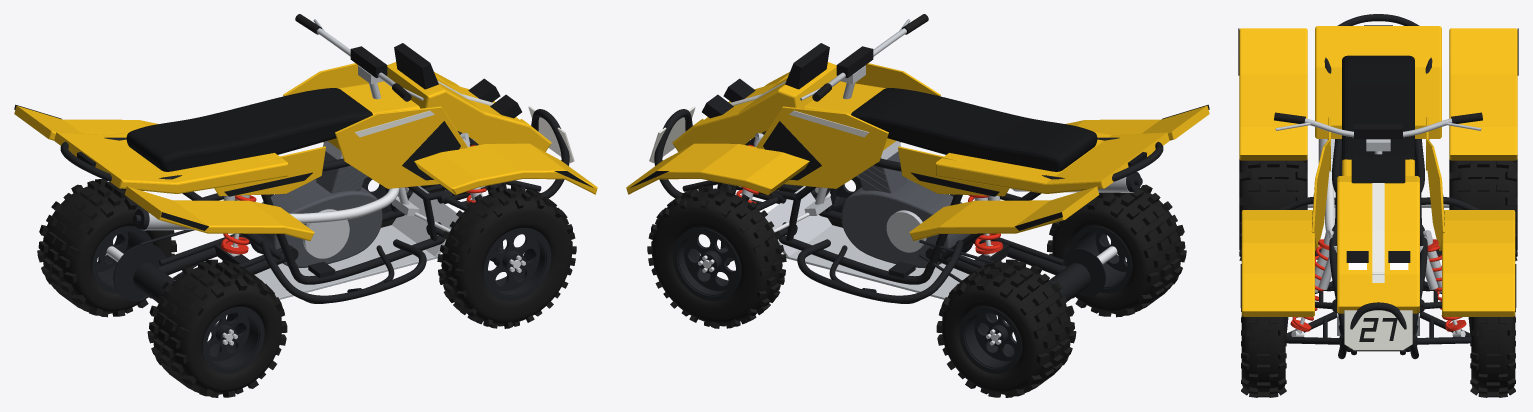
File: pro_450r_quad.glb
The picture shows the model from 3 angles, left to right: view 1: azimuth 30°, elevation 25°; view 2: azimuth 150°, elevation 25°; view 3: azimuth 270°, elevation 25°; orthographic projection. The views are drawn at different scales.
Parts seen in each view (by area): view 1: bodywork, wheel_RR_tyre, seat, wheel_FR_tyre, wheel_RL_tyre, frame, shroud_R_panel, engine_block, skid_plate, wheel_FR_rim, wheel_RR_rim, swingarm_body (+13 smaller); view 2: bodywork, wheel_RL_tyre, seat, wheel_FL_tyre, wheel_RR_tyre, frame, engine_block, shroud_L_panel, skid_plate, wheel_FL_rim, wheel_RL_rim, swingarm_body (+12 smaller); view 3: bodywork, seat, frame, wheel_FL_tyre, wheel_FR_tyre, wheel_RL_tyre, wheel_RR_tyre, front_plate, graphics_black, graphics_white, shroud_L_panel, shroud_R_panel (+16 smaller).
Boxes of the visible parts, x1=… form: bodywork: x1=14, y1=62, x2=597, y2=240; wheel_RR_tyre: x1=147, y1=259, x2=287, y2=397; seat: x1=126, y1=88, x2=372, y2=171; wheel_FR_tyre: x1=437, y1=185, x2=576, y2=328; wheel_RL_tyre: x1=37, y1=179, x2=176, y2=317; frame: x1=60, y1=109, x2=569, y2=303; shroud_R_panel: x1=335, y1=106, x2=467, y2=188; engine_block: x1=253, y1=151, x2=382, y2=267; skid_plate: x1=254, y1=186, x2=458, y2=299; wheel_FR_rim: x1=482, y1=228, x2=551, y2=301; wheel_RR_rim: x1=202, y1=307, x2=264, y2=373; swingarm_body: x1=133, y1=233, x2=298, y2=300; bodywork: x1=626, y1=62, x2=1209, y2=240; wheel_RL_tyre: x1=936, y1=259, x2=1076, y2=397; seat: x1=851, y1=88, x2=1097, y2=171; wheel_FL_tyre: x1=647, y1=185, x2=786, y2=328; wheel_RR_tyre: x1=1047, y1=184, x2=1186, y2=317; frame: x1=654, y1=109, x2=1163, y2=303; engine_block: x1=841, y1=151, x2=970, y2=267; shroud_L_panel: x1=756, y1=106, x2=888, y2=188; skid_plate: x1=765, y1=186, x2=969, y2=299; wheel_FL_rim: x1=672, y1=228, x2=741, y2=301; wheel_RL_rim: x1=959, y1=307, x2=1021, y2=373; swingarm_body: x1=925, y1=233, x2=1090, y2=300; bodywork: x1=1239, y1=26, x2=1517, y2=316; seat: x1=1342, y1=55, x2=1414, y2=160; frame: x1=1277, y1=14, x2=1479, y2=359; wheel_FL_tyre: x1=1470, y1=308, x2=1515, y2=397; wheel_FR_tyre: x1=1241, y1=308, x2=1286, y2=397; wheel_RL_tyre: x1=1449, y1=159, x2=1517, y2=260; wheel_RR_tyre: x1=1239, y1=159, x2=1307, y2=260; front_plate: x1=1344, y1=310, x2=1412, y2=350; graphics_black: x1=1238, y1=25, x2=1518, y2=307; graphics_white: x1=1372, y1=183, x2=1384, y2=282; shroud_L_panel: x1=1426, y1=139, x2=1445, y2=250; shroud_R_panel: x1=1311, y1=139, x2=1330, y2=250.
Bounding box in the file's own units: 2.2 × 1.06 × 1.15.
